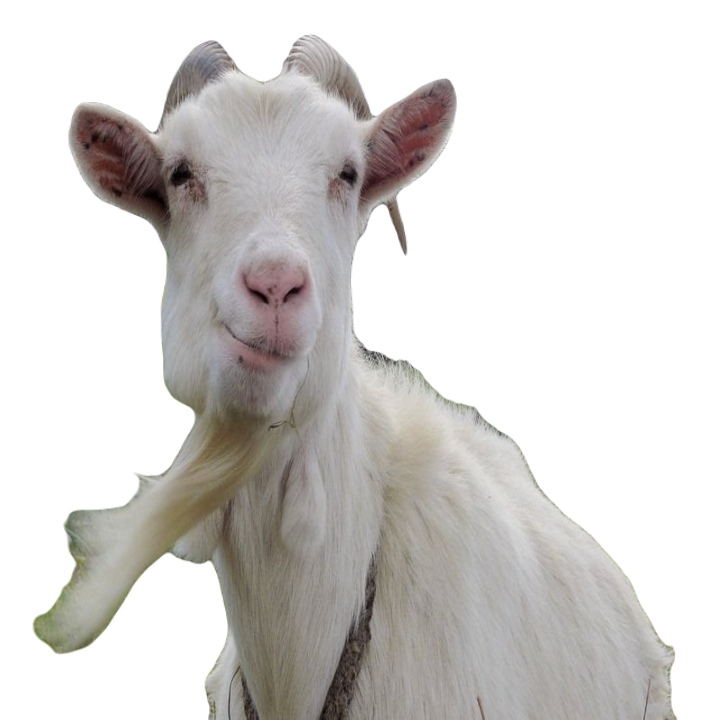Goat: (32, 35, 676, 719)
